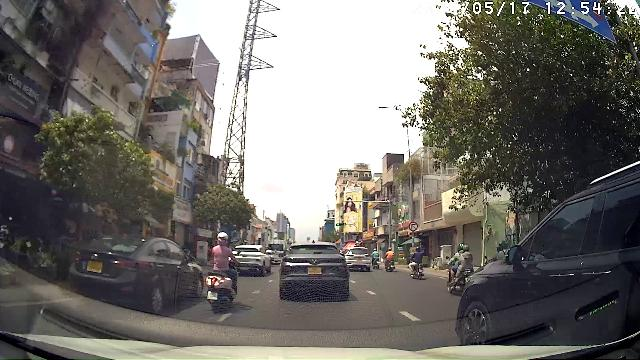123b-cam-re-phai: (408, 221, 418, 231)
